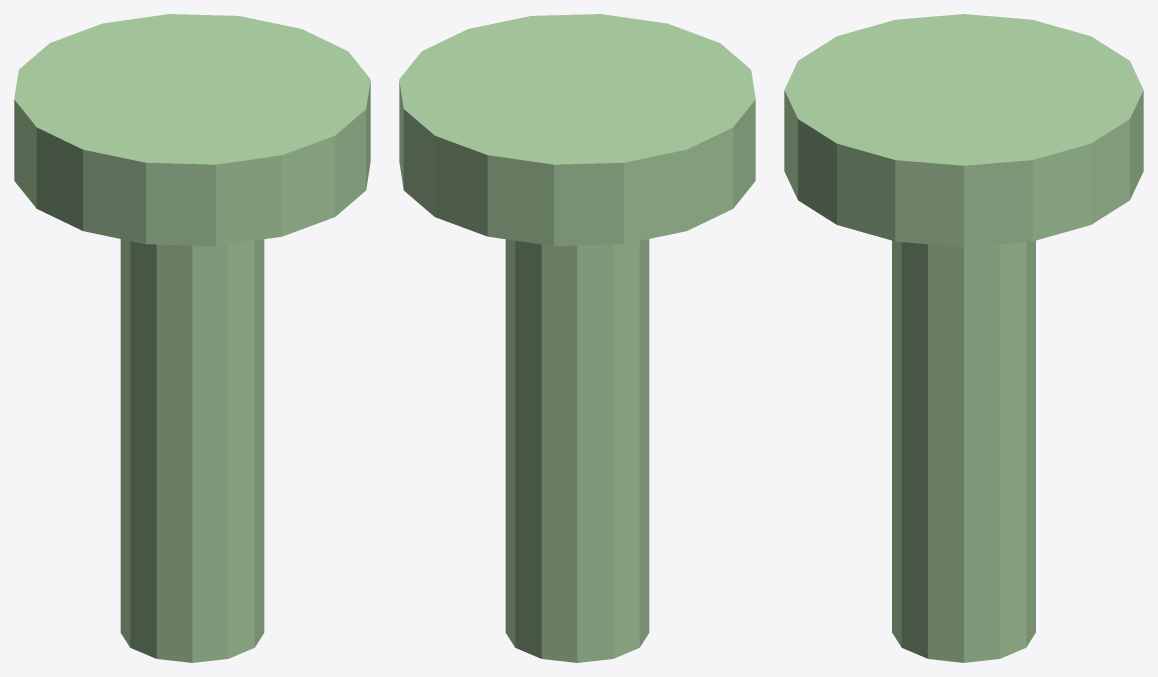
The model's file is zone-3.glb.
The picture shows the model from 3 angles, left to right: view 1: azimuth 30°, elevation 25°; view 2: azimuth 150°, elevation 25°; view 3: azimuth 270°, elevation 25°; orthographic projection.
Parts seen in each view (by area): view 1: zone-3; view 2: zone-3; view 3: zone-3.
Part boxes in pixels (box(x1,y1,x2,y2)): zone-3: box(14, 14, 370, 662); zone-3: box(399, 14, 755, 662); zone-3: box(784, 14, 1143, 662).
Bounding box in the file's own units: 0.6 × 1 × 0.6.
